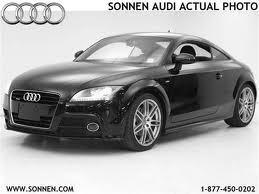car: (1, 31, 259, 153)
